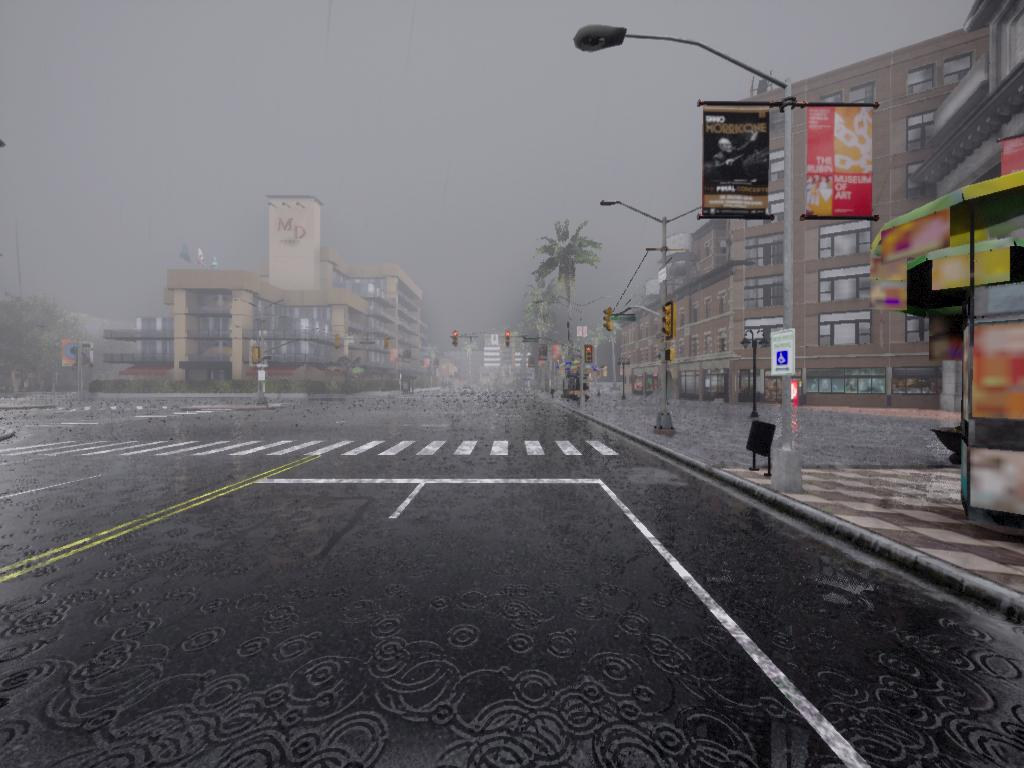traffic_light: (662, 303, 678, 341), (603, 311, 615, 332), (252, 347, 261, 367), (586, 348, 596, 364), (504, 331, 512, 349), (452, 331, 460, 347), (455, 332, 463, 348), (335, 334, 342, 351), (384, 334, 390, 353)
